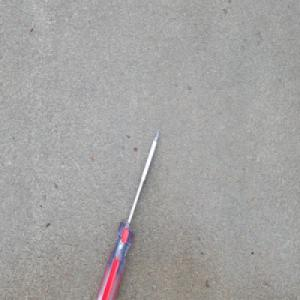Screwdriver: (93, 128, 160, 300)
